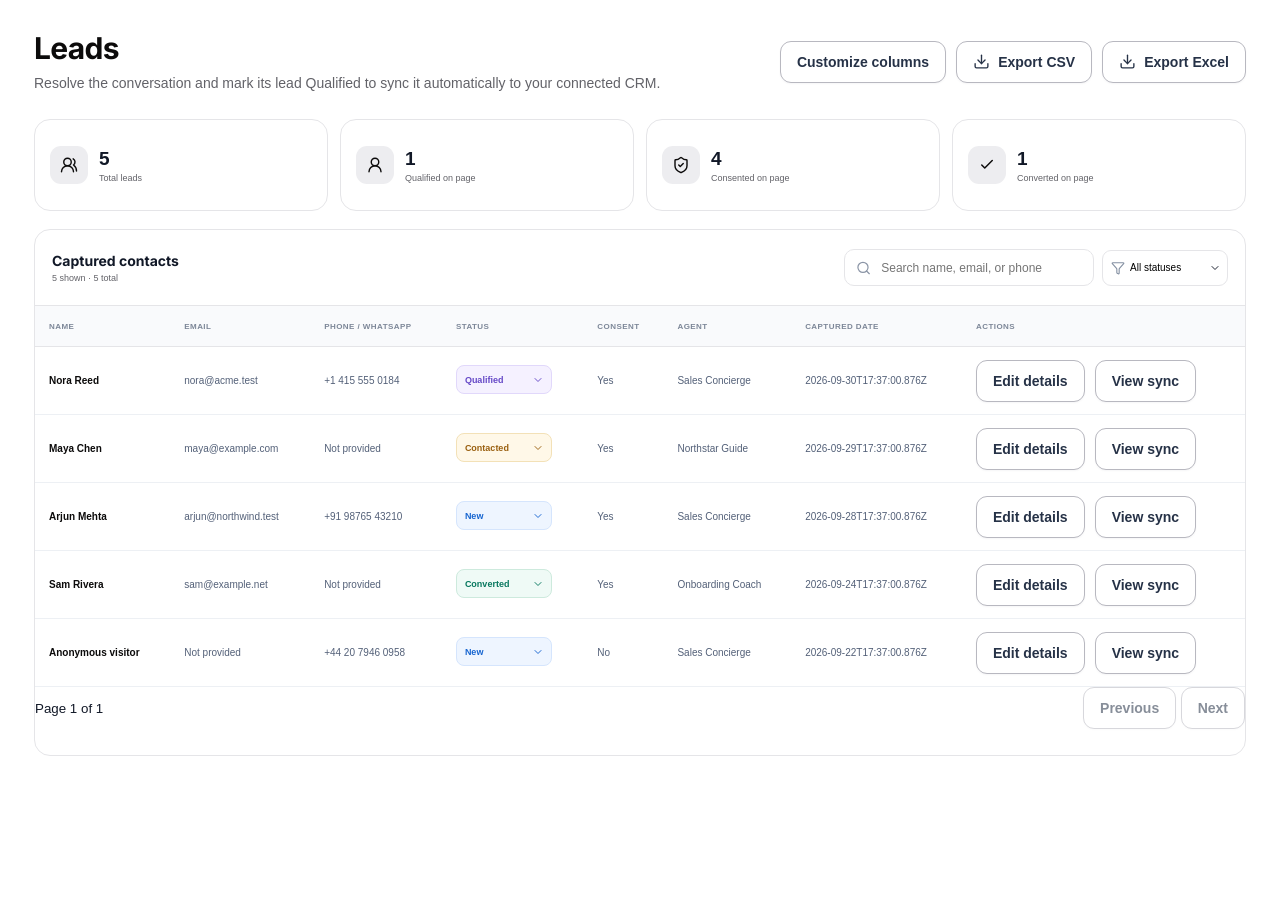
Test: LeadsPage › filters captured contacts through the server API and persists a status change
The width and height of the screenshot is (1280, 900).
Expected: the text "Nora Reed" is shown, [49, 375, 99, 386]
Type "Arjun" into the field named "Search leads" at (981, 268), box [879, 260, 1082, 276]
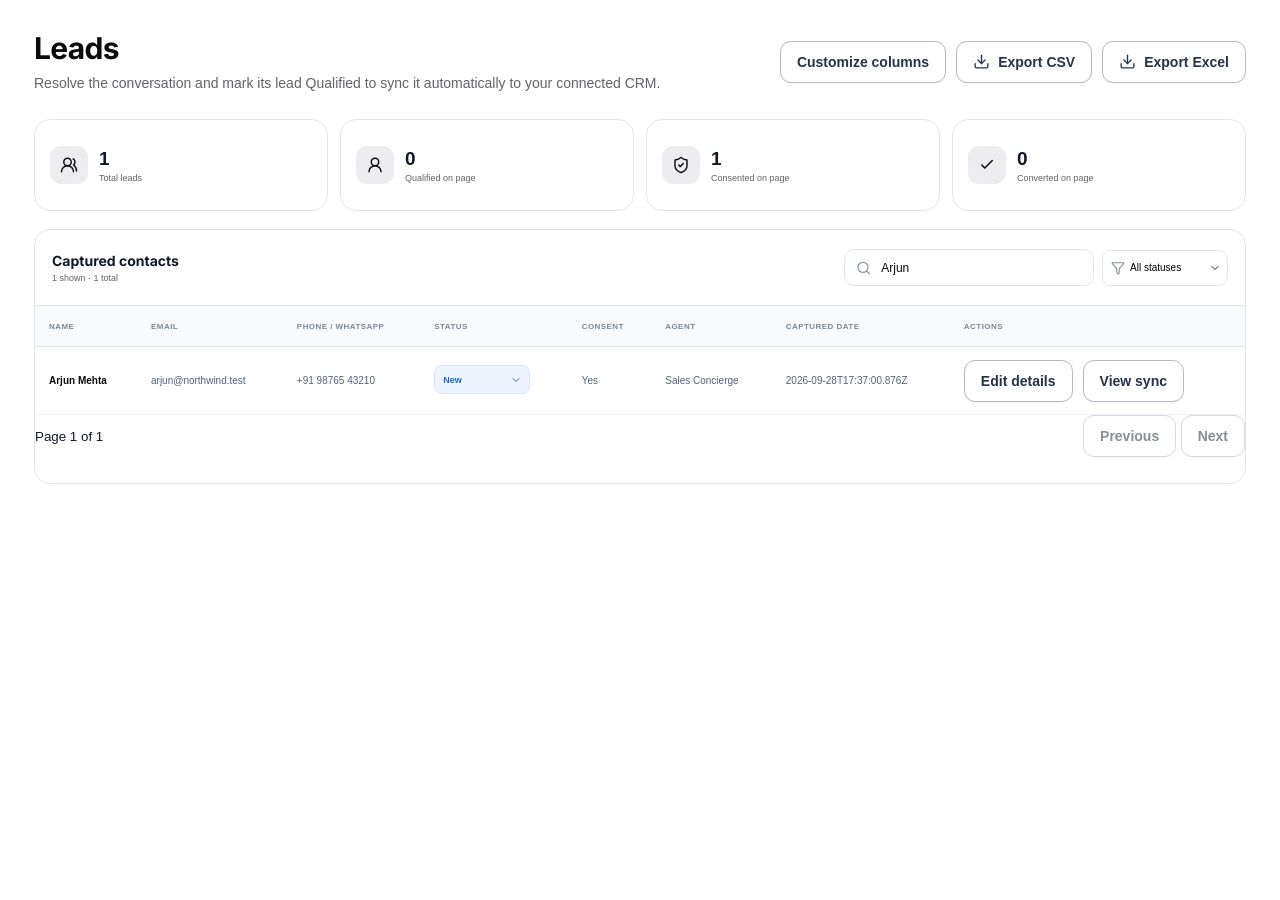
Expected: the text "Arjun Mehta" is shown, [49, 375, 107, 386]
Result: the text "Nora Reed" is gone
Clear the field named "Search leads" at (981, 268), box [879, 260, 1082, 276]
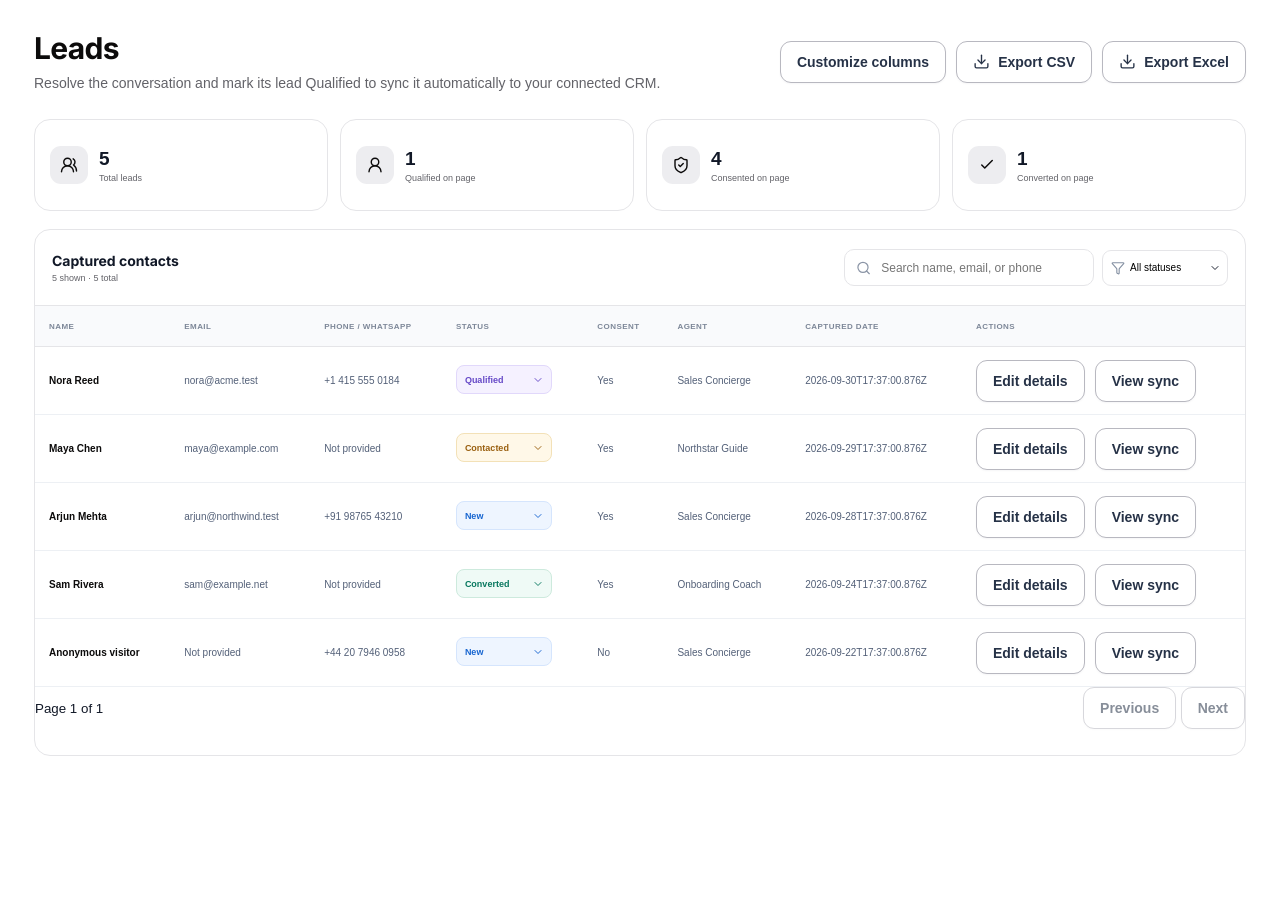
Result: the text "Nora Reed" is shown at [49, 375, 99, 386]
Select "converted" in the dropdown named "Status for Nora Reed" in the row of "Nora Reed" at (504, 380), box [457, 366, 551, 393]
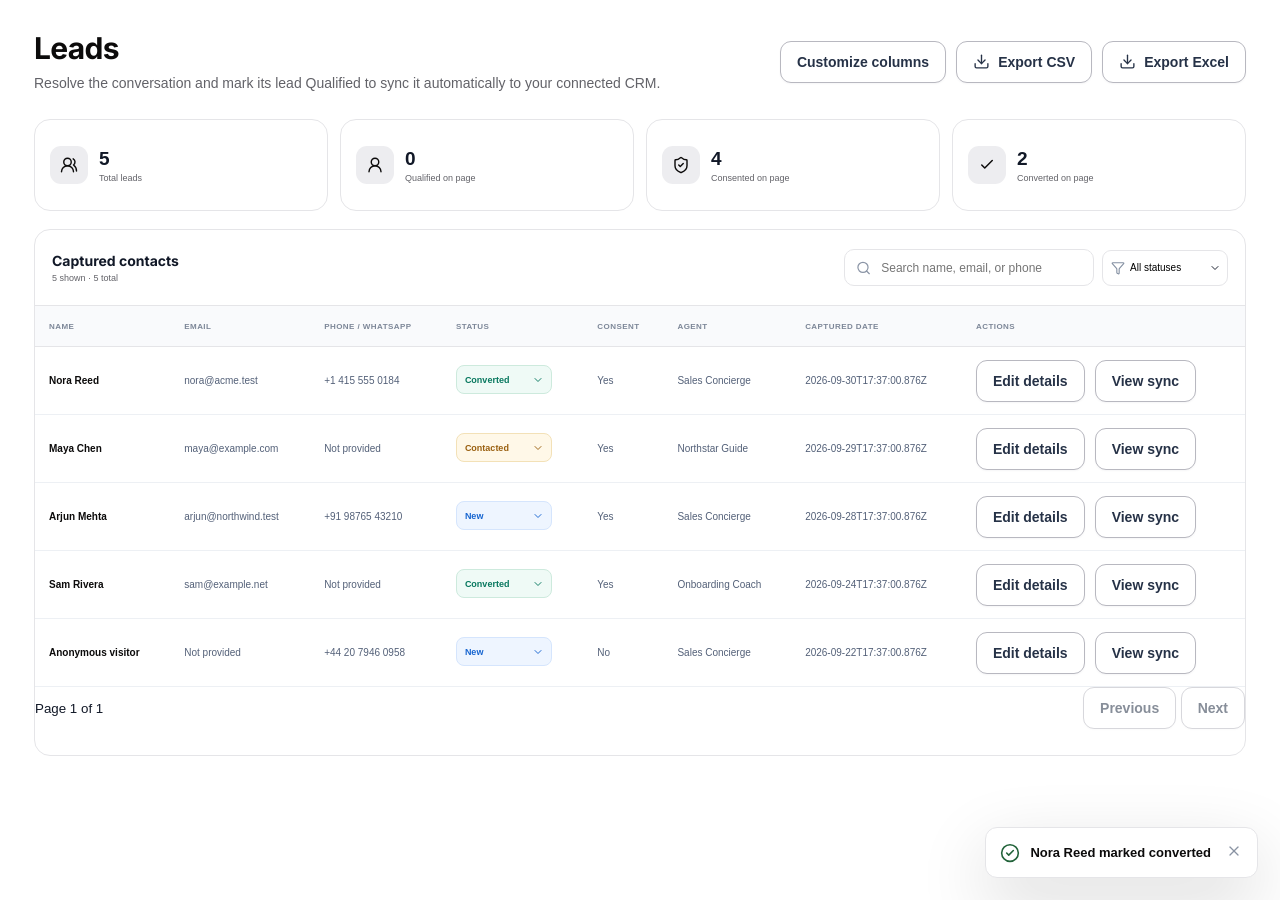
Select "qualified" in the dropdown named "Status for Nora Reed" in the row of "nora@acme.test" at (504, 380), box [457, 366, 551, 393]
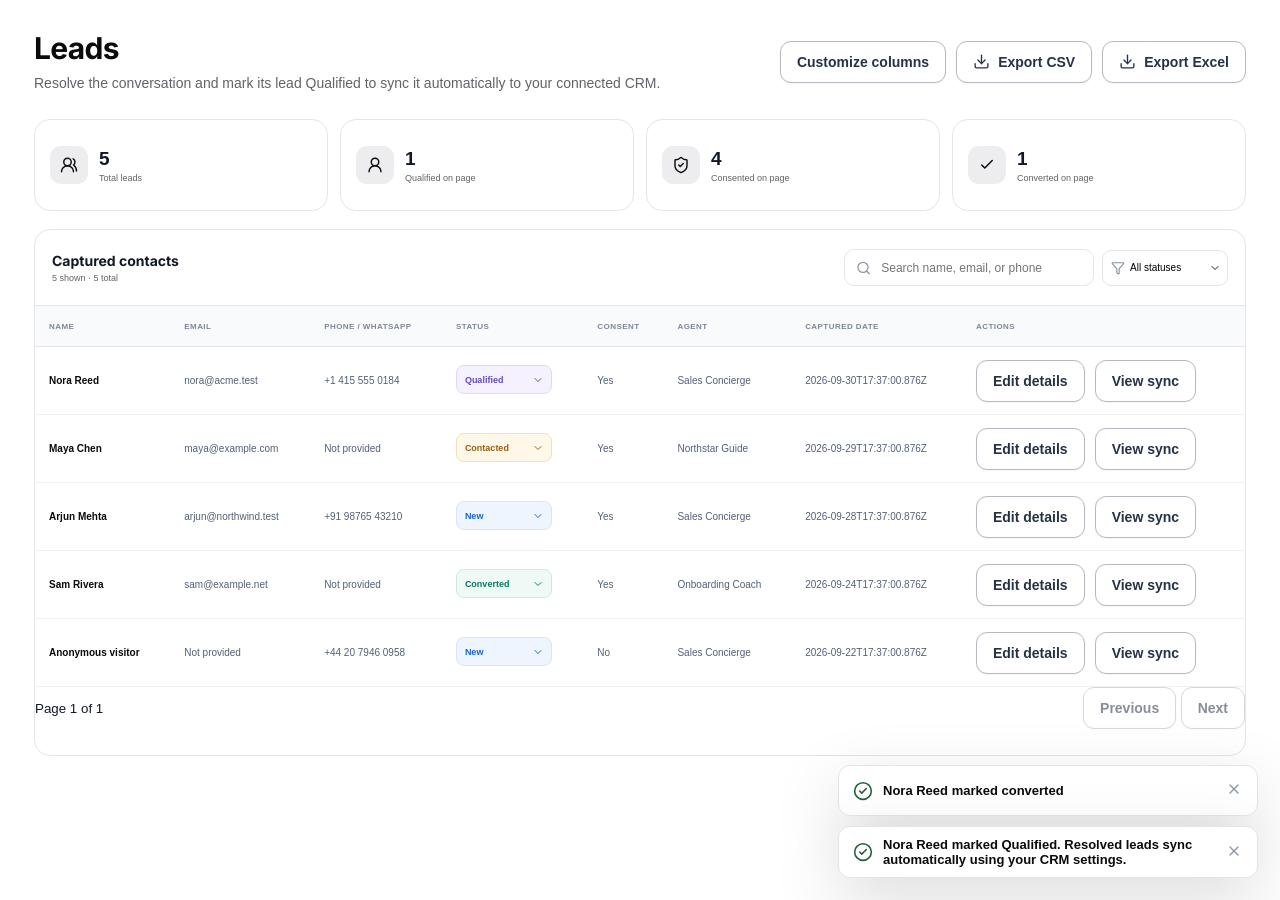
Result: the text "Nora Reed marked Qualified. Resolved leads sync automatically using your CRM settings." is shown at [883, 837, 1192, 867]
